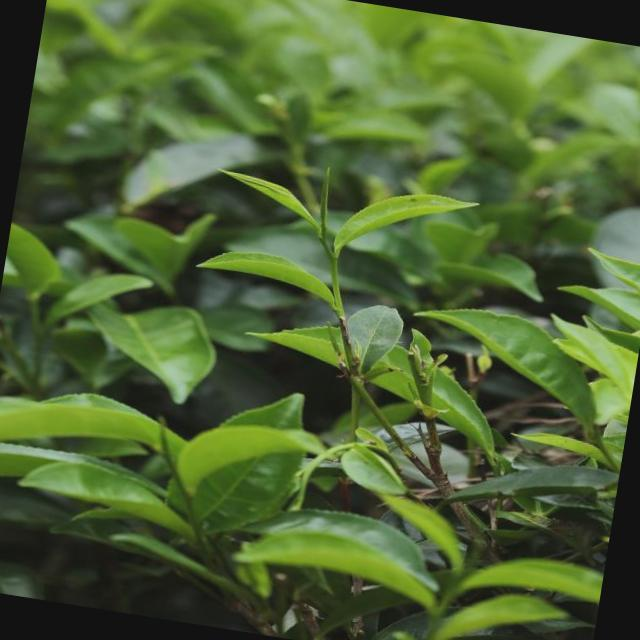Stem: (331, 259, 337, 282)
